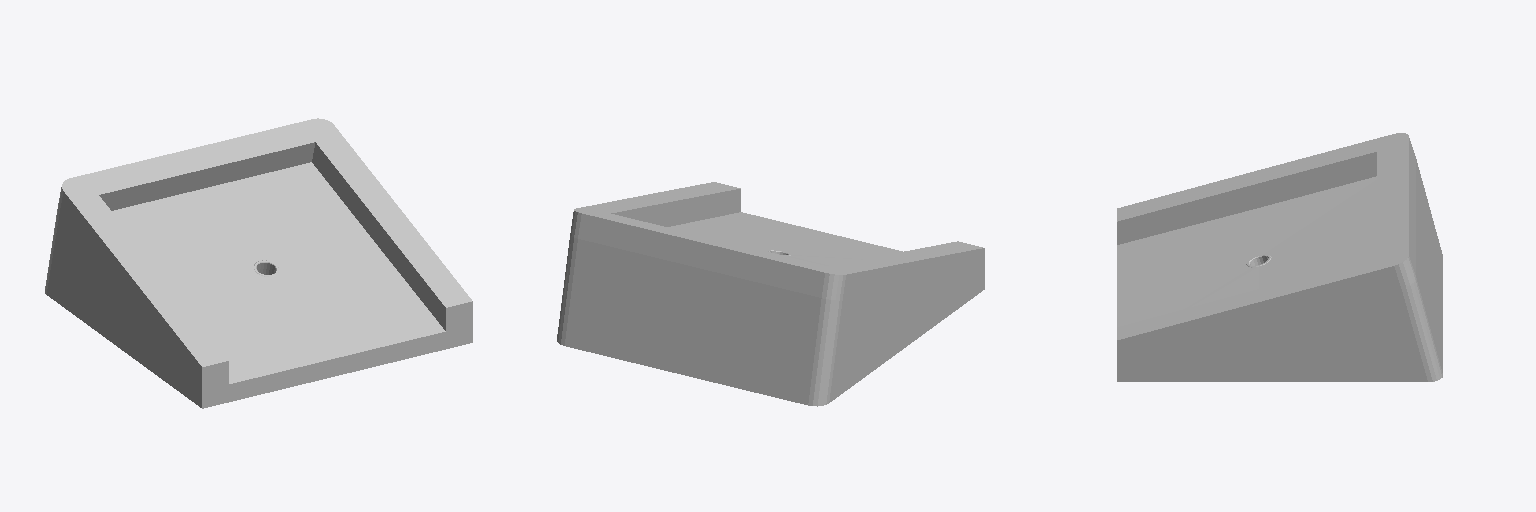
File: ramp1.obj
3 renders of one model, left to right at view 1: azimuth 30°, elevation 25°; view 2: azimuth 150°, elevation 25°; view 3: azimuth 270°, elevation 25°, orthographic.
Parts seen in each view (by area): view 1: end1; view 2: end1; view 3: end1.
Part boxes in pixels (x1,y1,x2,y2): end1: (45, 118, 472, 408); end1: (557, 182, 984, 406); end1: (1117, 133, 1442, 381).
Size of the model in its own units: 3 by 1.27 by 3.13.